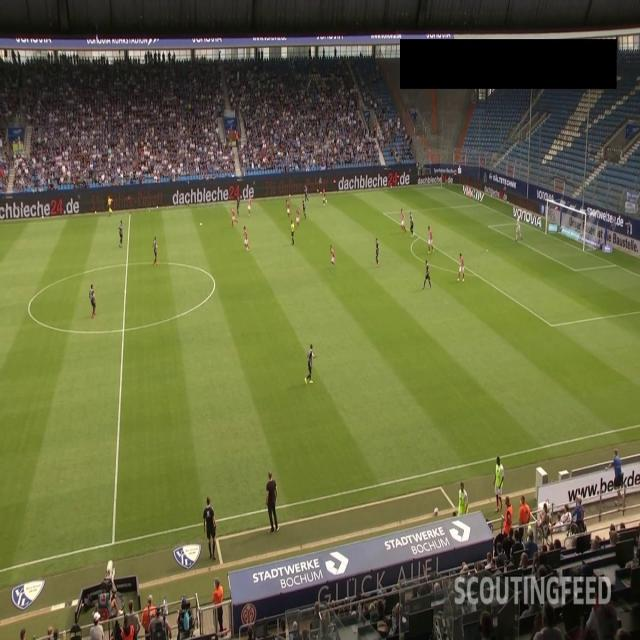ball: (197, 218, 204, 229)
player: (304, 342, 316, 381), (86, 281, 97, 319), (514, 213, 523, 242), (327, 245, 337, 268), (424, 259, 431, 291), (152, 234, 159, 265), (241, 225, 249, 252), (228, 206, 237, 228), (118, 217, 124, 247), (458, 253, 464, 283), (428, 224, 434, 250), (399, 209, 406, 231), (409, 212, 415, 236), (284, 198, 291, 218), (300, 198, 307, 218), (247, 194, 253, 214), (234, 194, 240, 213), (303, 182, 308, 200), (376, 237, 379, 266), (322, 186, 327, 203), (296, 210, 300, 228)
